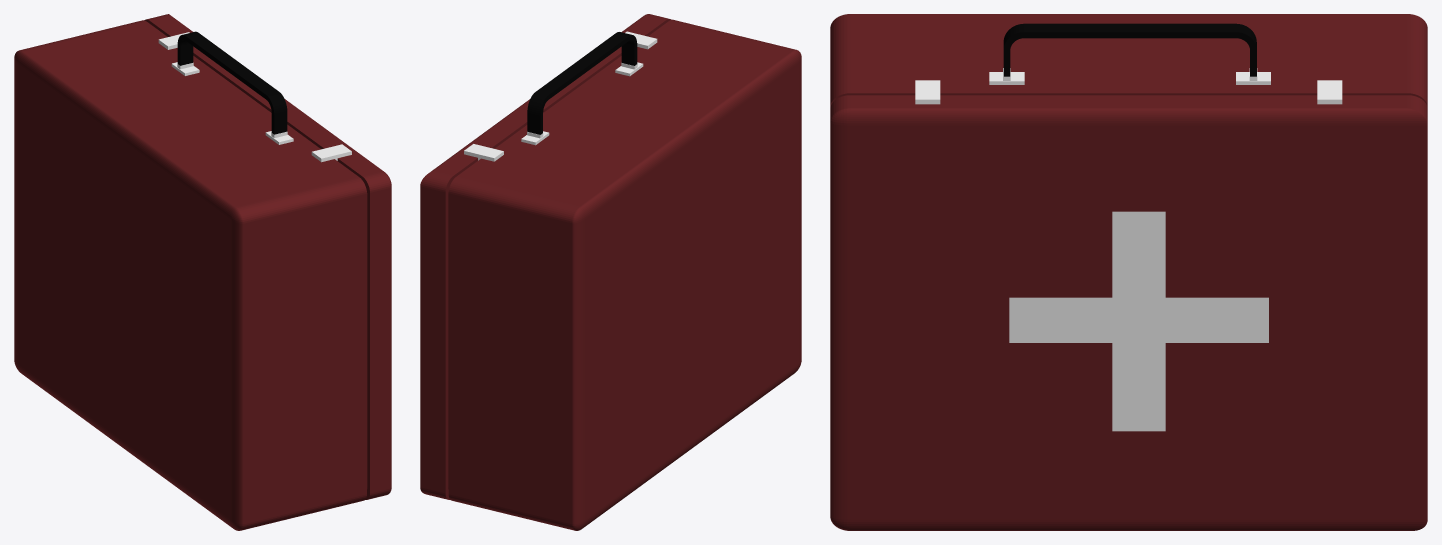
File: Kit.fbx
The picture shows the model from 3 angles, left to right: view 1: azimuth 30°, elevation 25°; view 2: azimuth 150°, elevation 25°; view 3: azimuth 270°, elevation 25°; orthographic projection. The views are drawn at different scales.
Visible parts, largest first — view 1: Kit; view 2: Kit; view 3: Kit.
Part boxes in pixels (bbox=[...]): Kit: bbox=[14, 14, 391, 530]; Kit: bbox=[420, 14, 801, 530]; Kit: bbox=[830, 14, 1427, 530].
Bounding box in the file's own units: 17.09 × 37.69 × 42.96.
